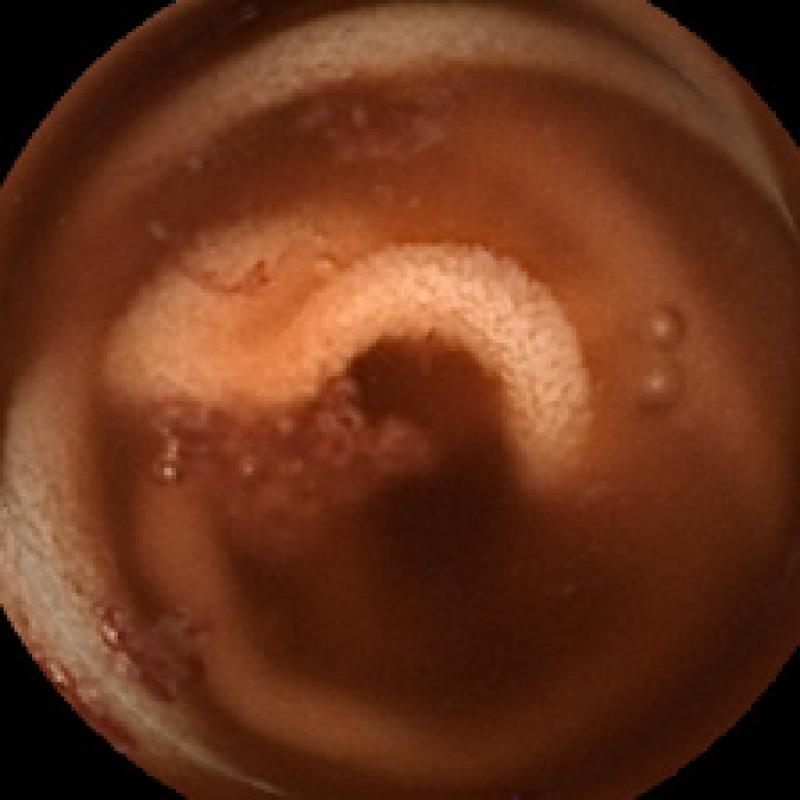bleeding: (54, 578, 208, 749), (164, 239, 272, 307)
